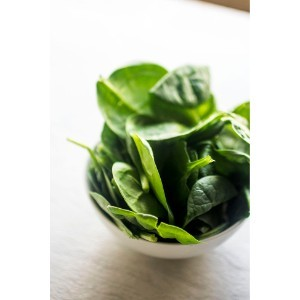spinach_brain food: (88, 64, 242, 247)
